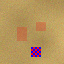vehicle: (17, 26, 27, 40), (35, 21, 45, 30)
